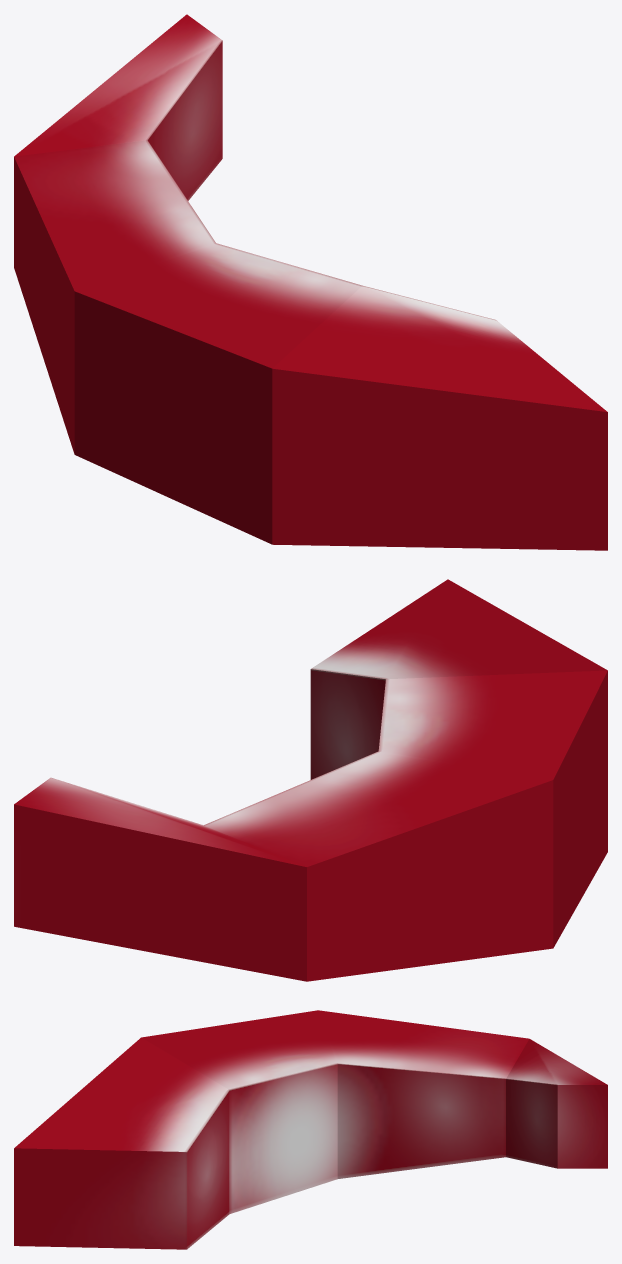
Rendered from CapsicumFlakeRed.fbx.
3 renders of one model, top to bottom at view 1: azimuth 30°, elevation 25°; view 2: azimuth 150°, elevation 25°; view 3: azimuth 270°, elevation 25°, orthographic. The views are drawn at different scales.
Parts seen in each view (by area): view 1: CapsicumFlakeRed; view 2: CapsicumFlakeRed; view 3: CapsicumFlakeRed.
Part boxes in pixels (bbox=[...]): CapsicumFlakeRed: bbox=[14, 14, 607, 550]; CapsicumFlakeRed: bbox=[14, 579, 607, 981]; CapsicumFlakeRed: bbox=[14, 1010, 607, 1249].
Size of the model in its own units: 2.81 by 1.87 by 6.23.
